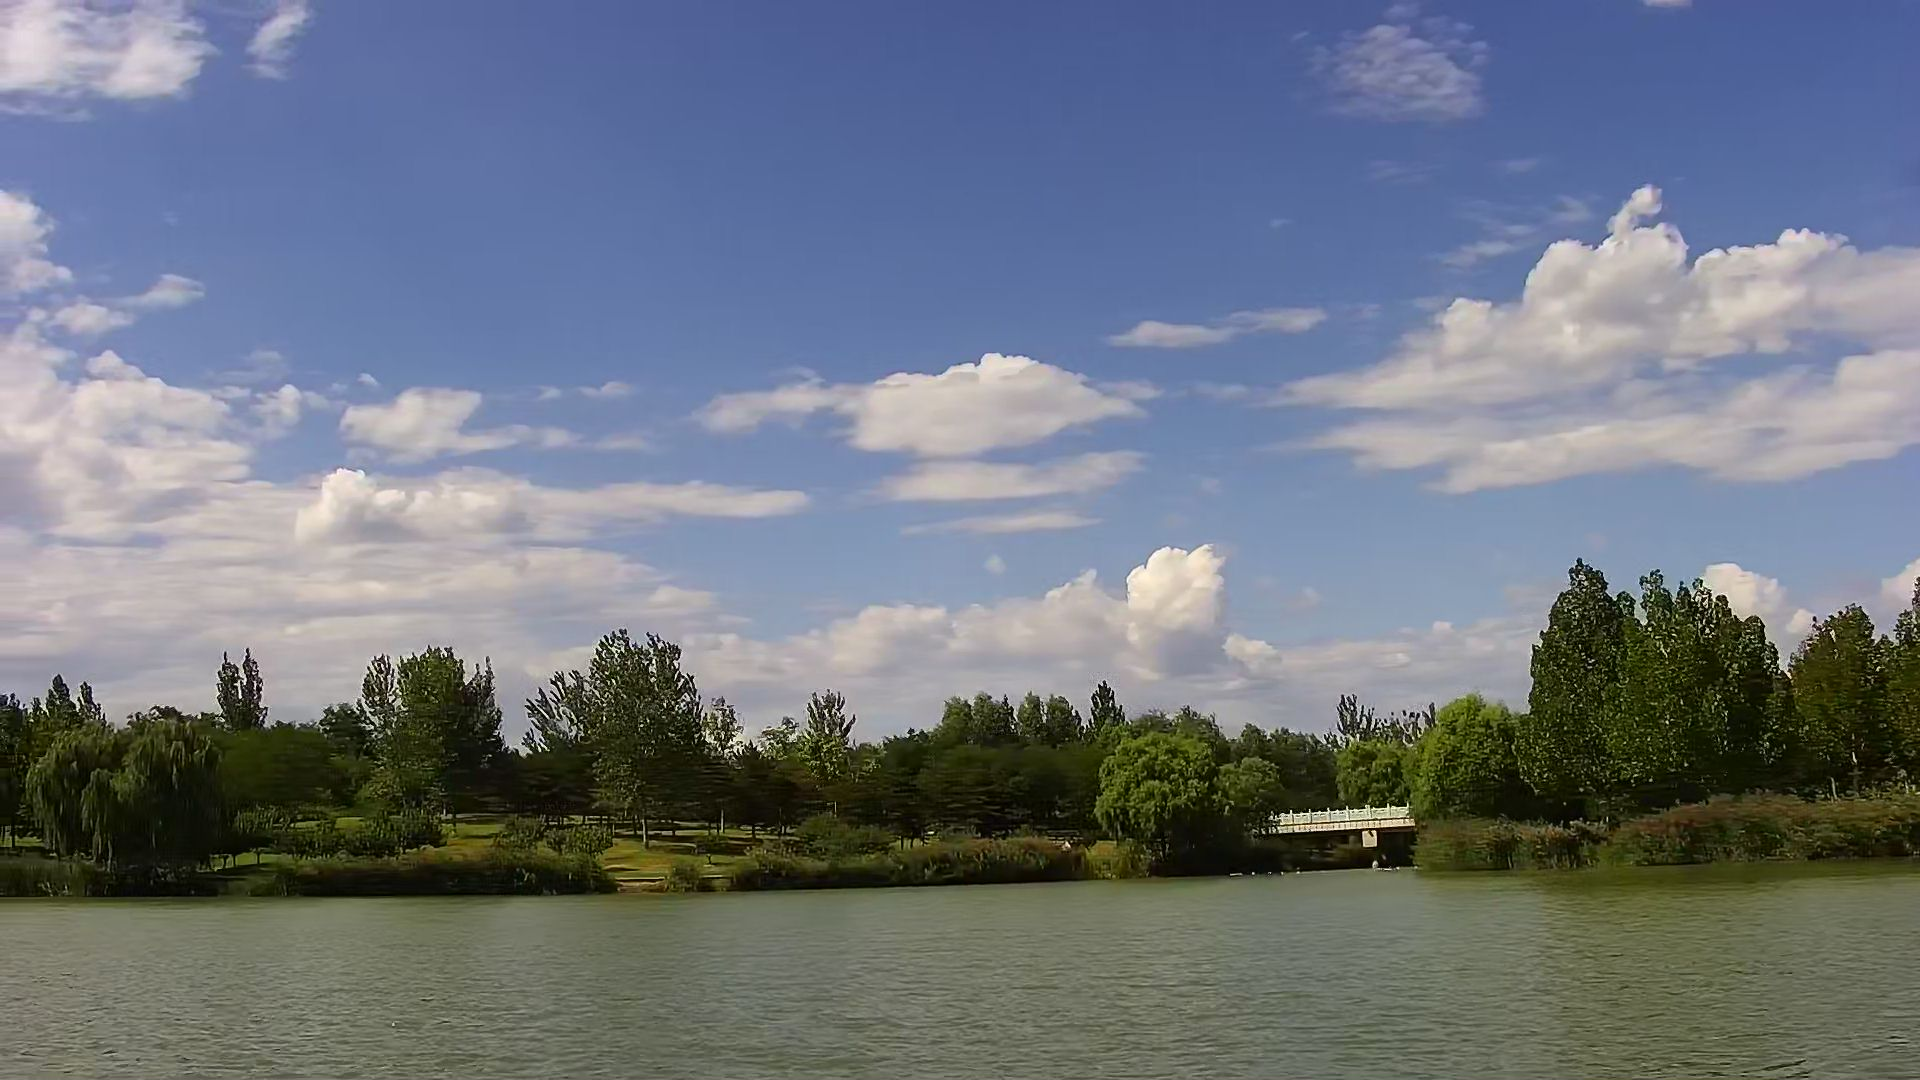bridge: (1282, 804, 1418, 870)
